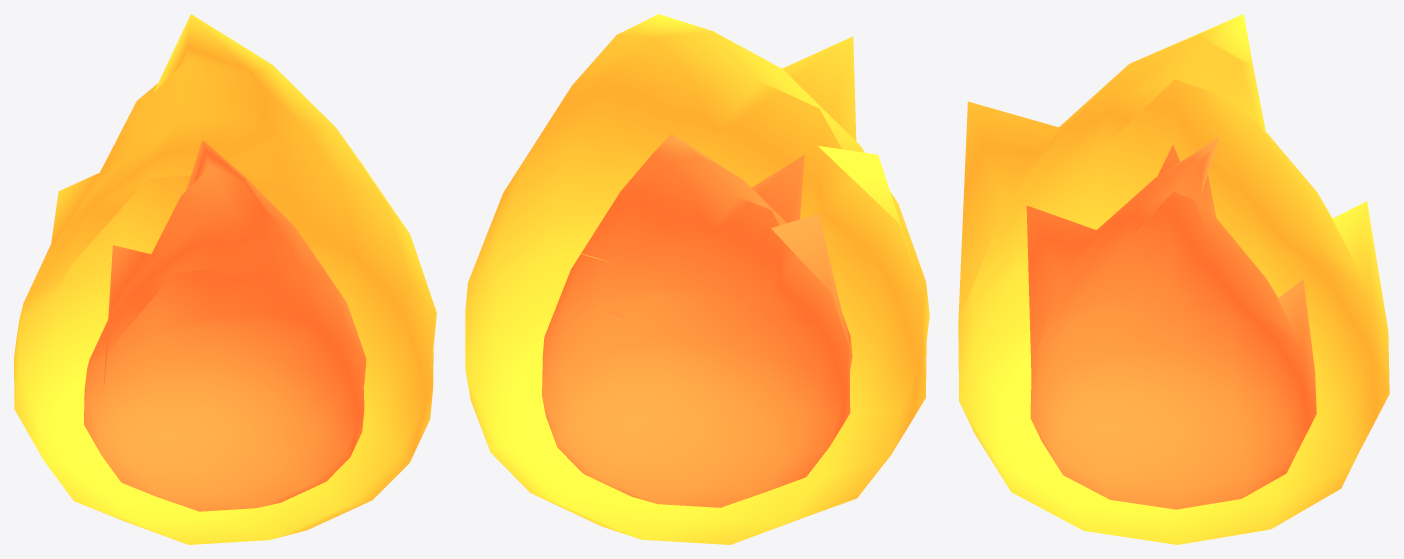
The model's file is fire.gltf.
3 renders of one model, left to right at view 1: azimuth 30°, elevation 25°; view 2: azimuth 150°, elevation 25°; view 3: azimuth 270°, elevation 25°, orthographic. The views are drawn at different scales.
Visible parts, largest first — view 1: Outter, Inner; view 2: Outter, Inner; view 3: Outter, Inner.
Part boxes in pixels (bbox=[...]): Outter: bbox=[14, 14, 436, 544]; Inner: bbox=[84, 140, 366, 511]; Outter: bbox=[465, 14, 929, 544]; Inner: bbox=[542, 133, 852, 507]; Outter: bbox=[958, 14, 1389, 544]; Inner: bbox=[1026, 137, 1316, 509].
Size of the model in its own units: 0.6859 by 0.8572 by 0.6667.
